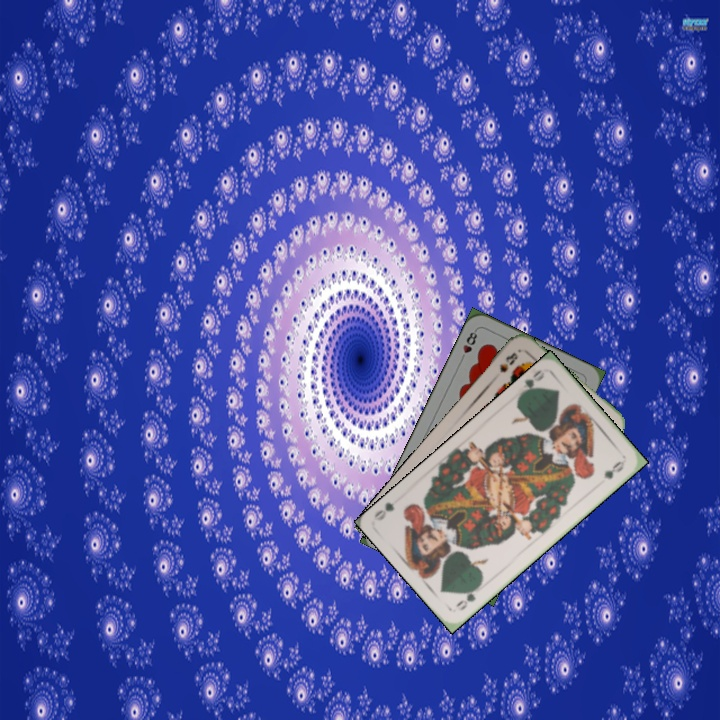GO: (515, 365, 547, 399), (452, 581, 483, 613)
H8: (456, 326, 480, 364)
S8: (495, 348, 520, 375)
